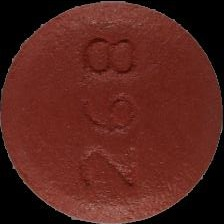50090-0937: (0, 0, 224, 224)
